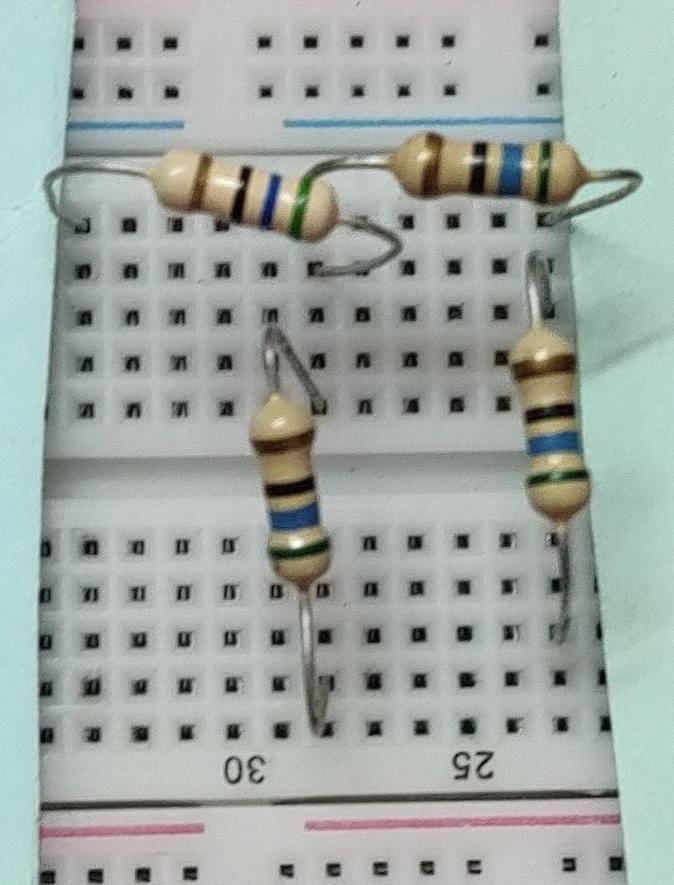resistor: (142, 140, 356, 255), (237, 384, 350, 596), (499, 312, 608, 526), (377, 120, 602, 217)
